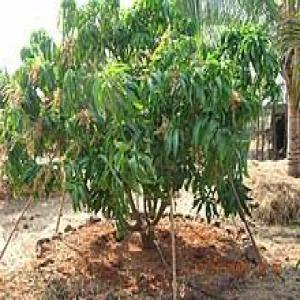Tree: (24, 14, 260, 262)
